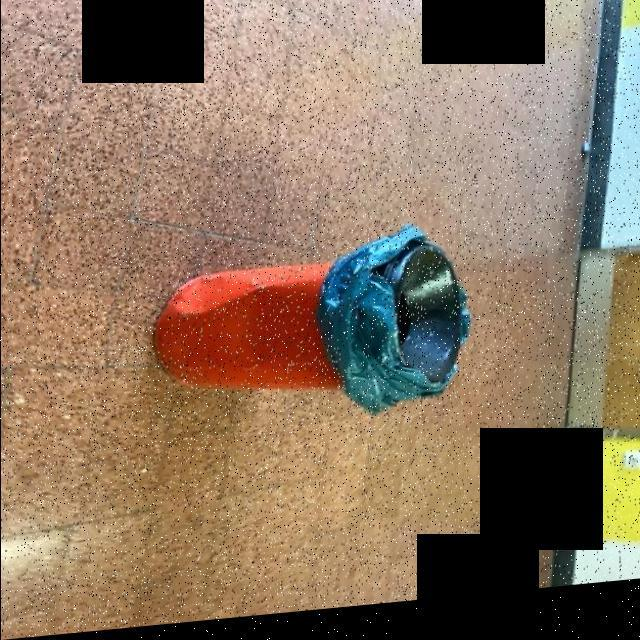bin: (93, 216, 517, 480)
